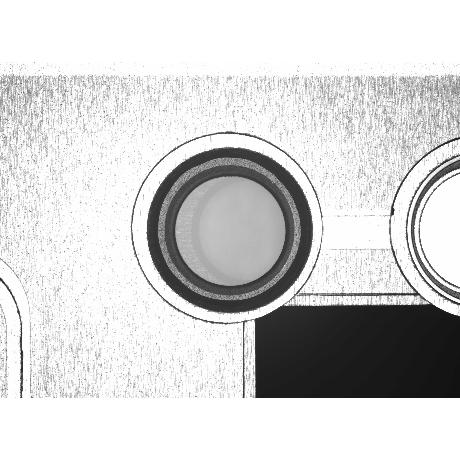Hole: (148, 148, 312, 314)
Hole2: (158, 158, 300, 300)
Hole3: (166, 166, 294, 296)
Hole4: (176, 178, 286, 286)
